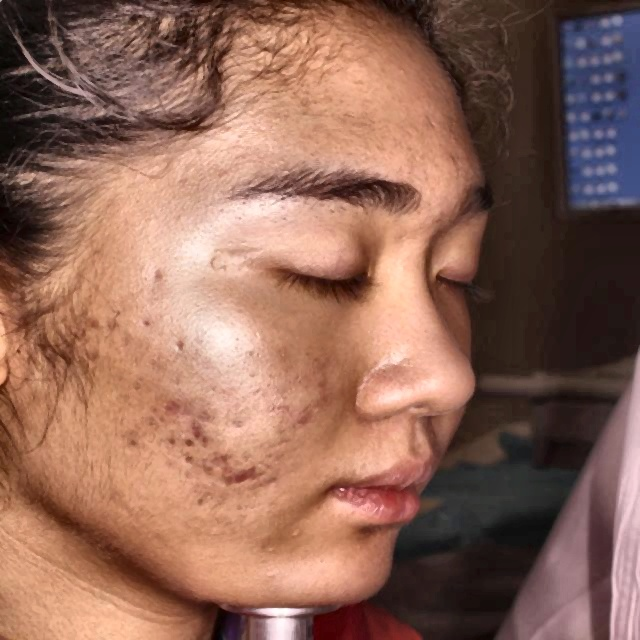pustule: (155, 387, 202, 424), (74, 310, 112, 344), (217, 456, 250, 491), (191, 418, 215, 445), (123, 428, 144, 455), (169, 434, 189, 461)
